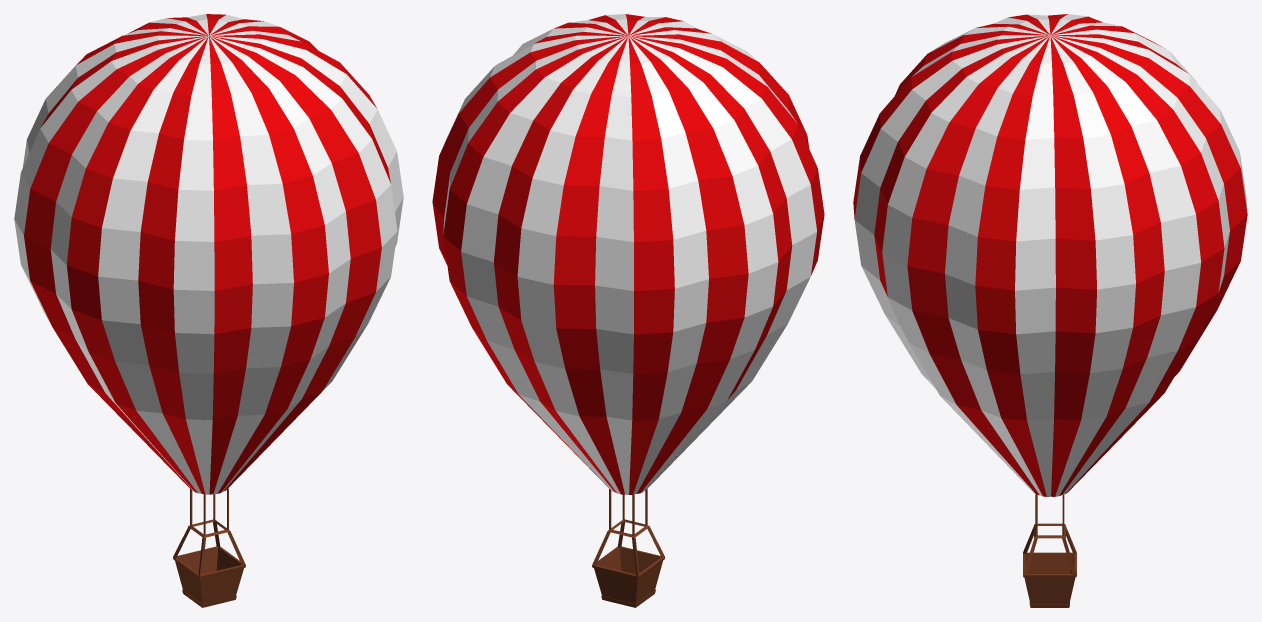
The model's file is HotAirBalloon.fbx.
The picture shows the model from 3 angles, left to right: view 1: azimuth 30°, elevation 25°; view 2: azimuth 150°, elevation 25°; view 3: azimuth 270°, elevation 25°; orthographic projection.
Parts seen in each view (by area): view 1: Hot Air Balloon; view 2: Hot Air Balloon; view 3: Hot Air Balloon.
Boxes of the visible parts, box(x1,y1,x2,y2) form: Hot Air Balloon: box(14, 14, 403, 607); Hot Air Balloon: box(432, 14, 824, 607); Hot Air Balloon: box(853, 14, 1247, 607).
Bounding box in the file's own units: 1156 × 1850 × 1172.
